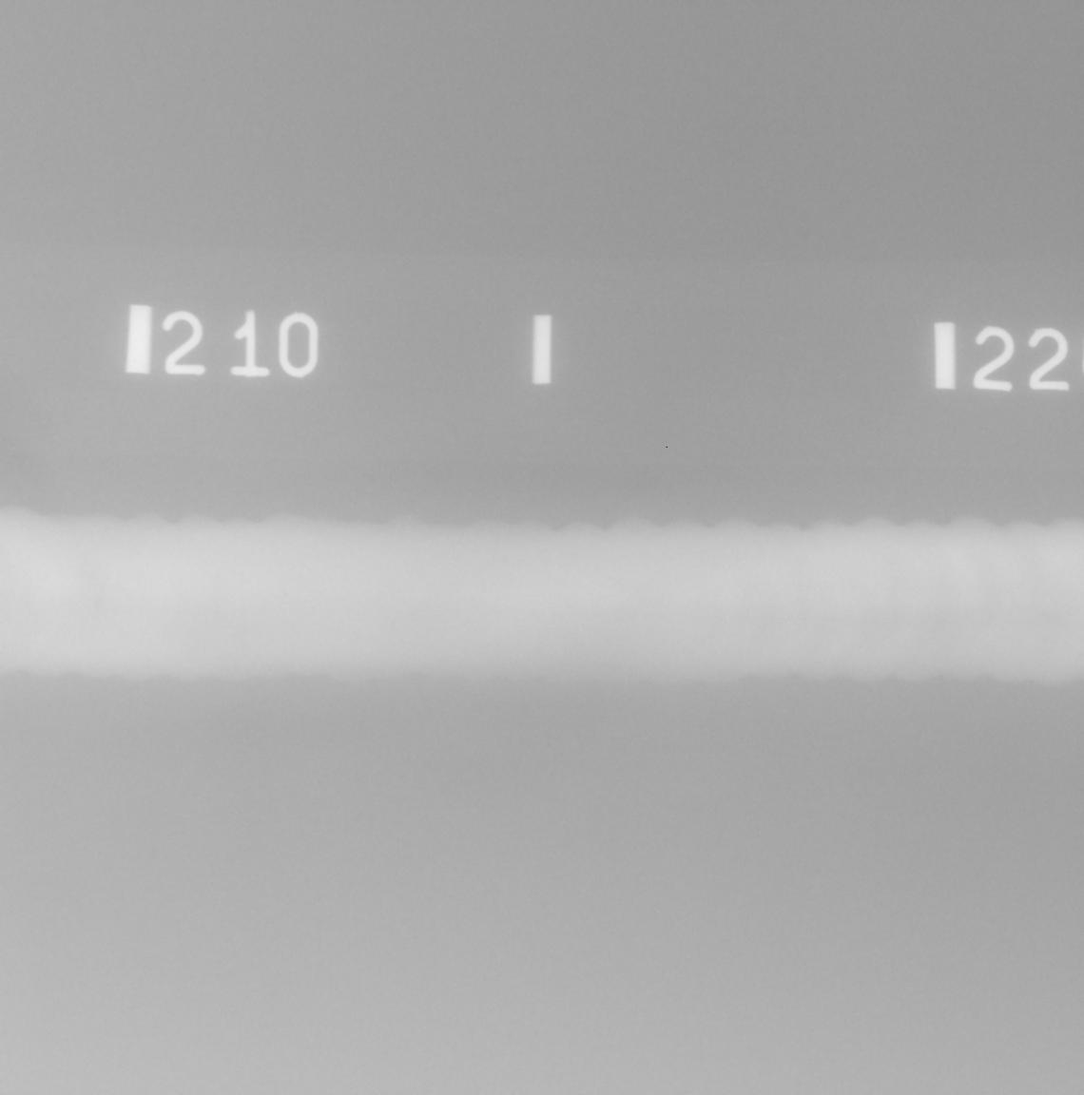Pore/Porosity: (96, 600, 102, 608), (283, 592, 288, 597)
